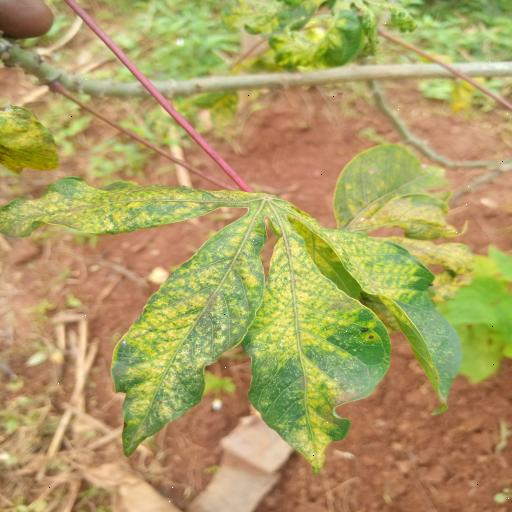Cassava_Mosaic: (5, 174, 506, 474)
